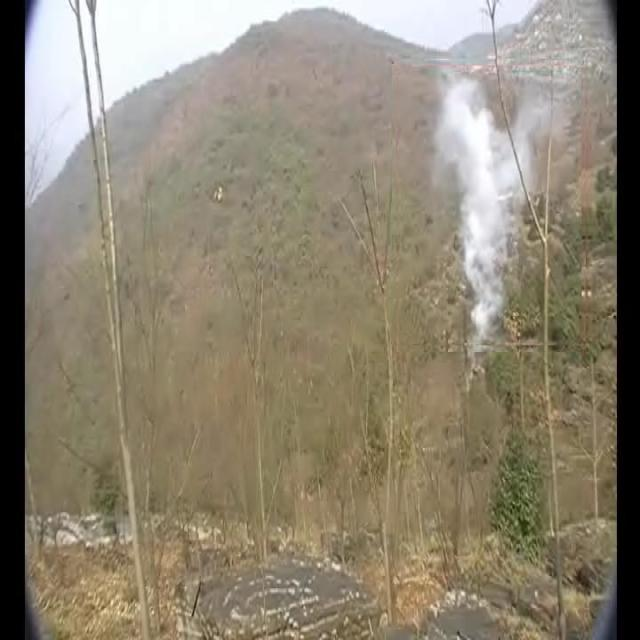smoke: (434, 72, 554, 347)
